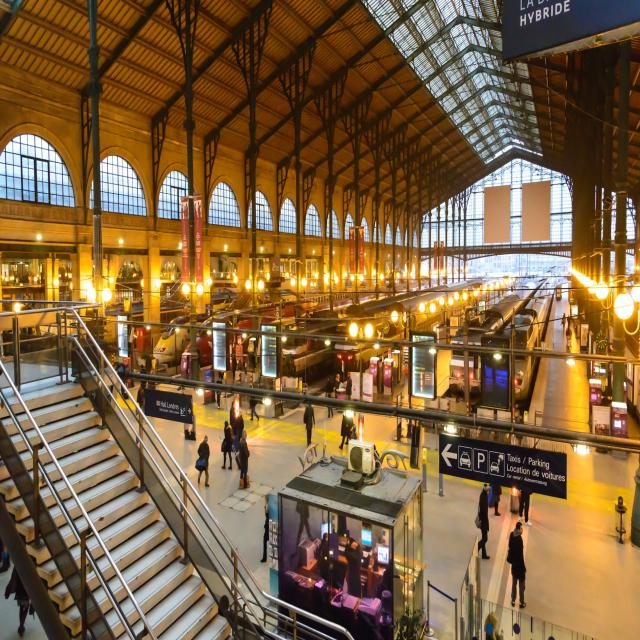body: (294, 500, 404, 616), (0, 264, 73, 309), (456, 615, 559, 639), (12, 542, 30, 638), (508, 520, 527, 609), (474, 480, 491, 560), (468, 606, 507, 640), (112, 261, 144, 302), (209, 260, 238, 298), (159, 262, 183, 302), (210, 581, 232, 621), (238, 430, 250, 490), (260, 493, 270, 564), (197, 436, 210, 488), (482, 280, 514, 301), (0, 520, 12, 573), (221, 420, 233, 471), (303, 402, 316, 448), (531, 274, 548, 307), (518, 490, 533, 527), (324, 374, 335, 419), (343, 403, 355, 444), (491, 474, 502, 517), (249, 383, 260, 422), (338, 413, 349, 451), (244, 348, 258, 374), (182, 413, 194, 439), (214, 375, 223, 409), (236, 409, 244, 444), (137, 382, 145, 412), (229, 400, 237, 430), (580, 324, 589, 346), (231, 353, 238, 381), (358, 354, 365, 382), (374, 444, 382, 467), (334, 373, 341, 399), (346, 371, 352, 401), (145, 353, 153, 372), (196, 345, 201, 372), (350, 424, 357, 440), (148, 379, 156, 393), (565, 326, 572, 341), (139, 364, 148, 374), (561, 312, 566, 330), (566, 314, 571, 329), (446, 315, 450, 327), (238, 356, 242, 364)
